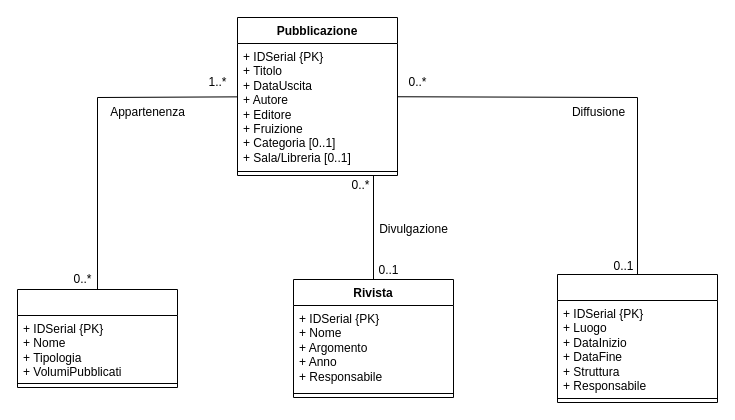
The diagram is 735 pixels wide and 420 high, and some of its shapes have lost their labels. Here are the shapes that lost their labels. From the top down, the box of each, then its label:
(16, 288, 178, 388): Collana
(556, 274, 718, 402): Conferenza
